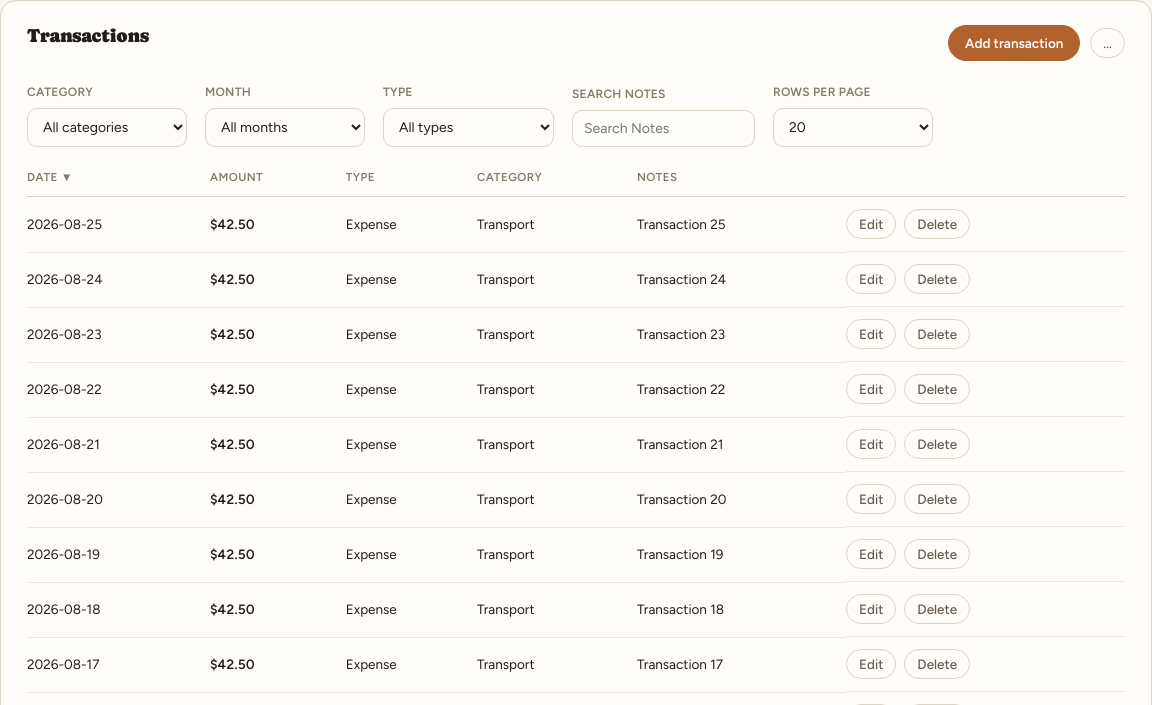
Test: Transactions › pagination › changes how many rows are shown via the Rows per page dropdown
This screenshot has width=1152, height=705.
Select "10" in the dropdown labelled "Rows per page" at (853, 127), box [773,108,933,147]
(page scrolled)
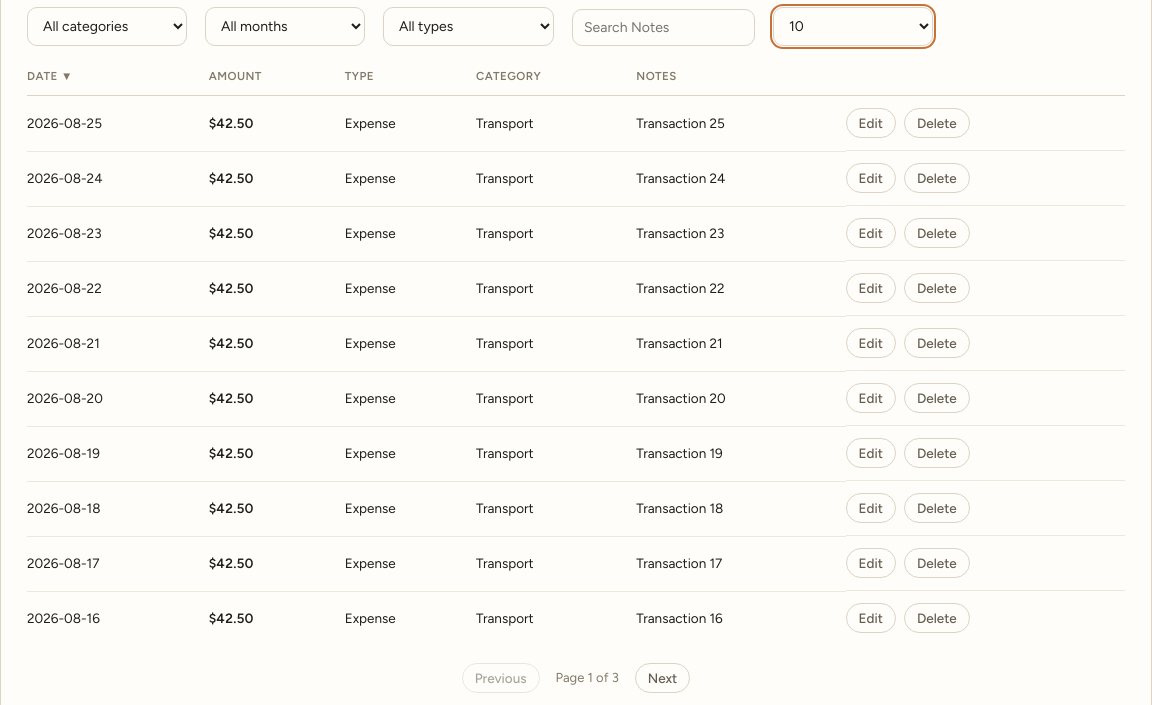
Result: the text "Page 1 of 3" is shown at [556,668,619,688]
